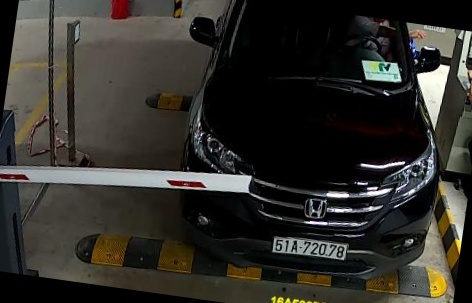plate: (270, 234, 353, 268)
